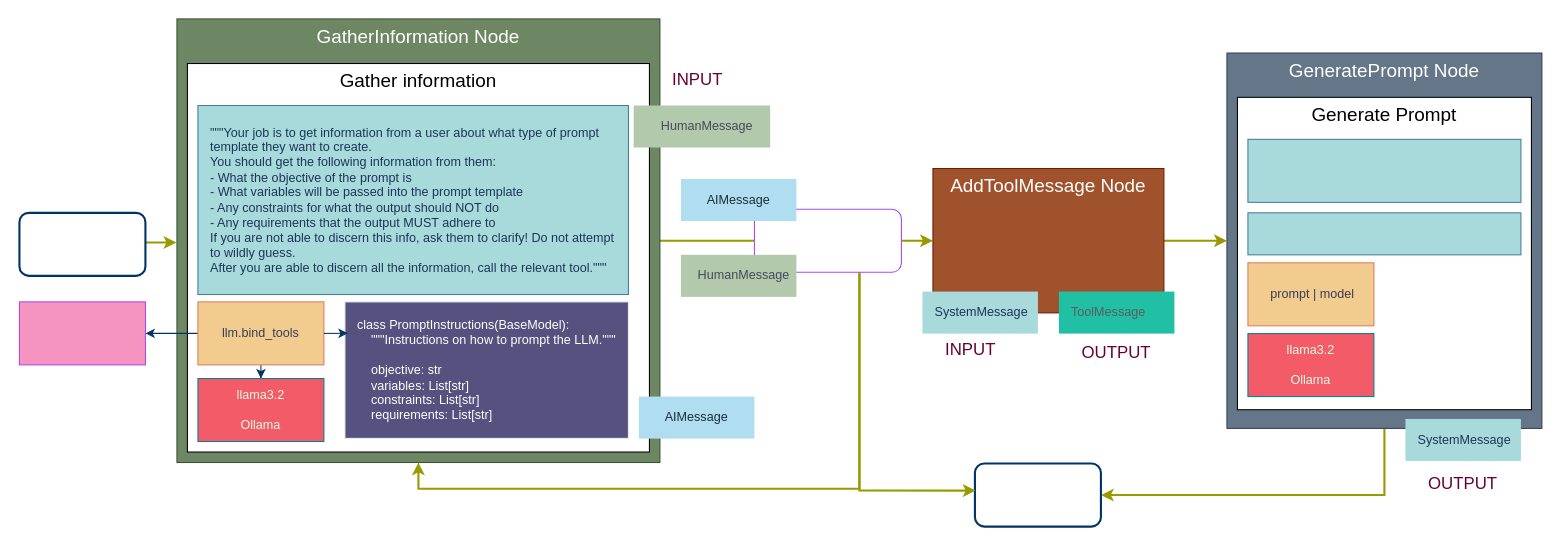
The diagram is 1560 pixels wide and 545 high, and some of its shapes have lost their labels. The centre of each missing label's shape, as x and y in pixels:
"""Based on the following requirements, write a good prompt template: {reqs}""": point (1384, 170)
END: point (1037, 494)
get_state: point (827, 240)
Memory: point (81, 333)
reqs=tool_call: point (1384, 233)
START: point (82, 243)
